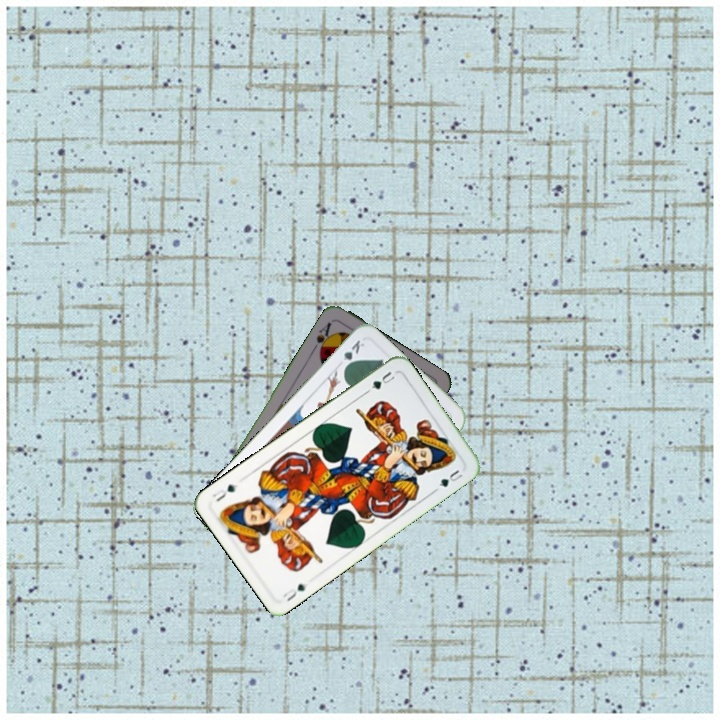GK: (338, 336, 367, 372)
GU: (367, 367, 399, 392), (279, 580, 309, 604)
SA: (308, 318, 336, 357)
